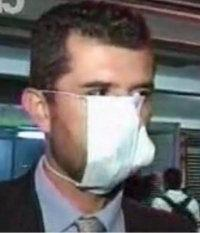mask_weared_incorrect: (47, 74, 156, 191)
